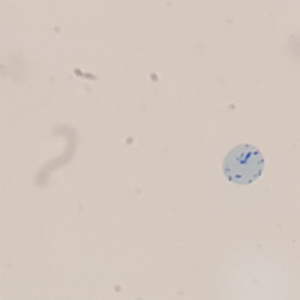aggregate reticulocyte: (221, 142, 266, 187)
